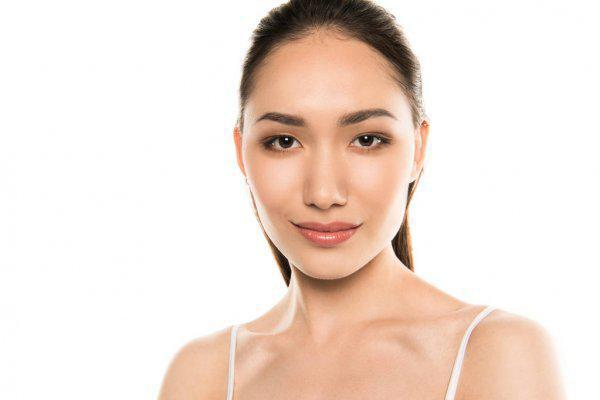Sober: (243, 59, 407, 269)
